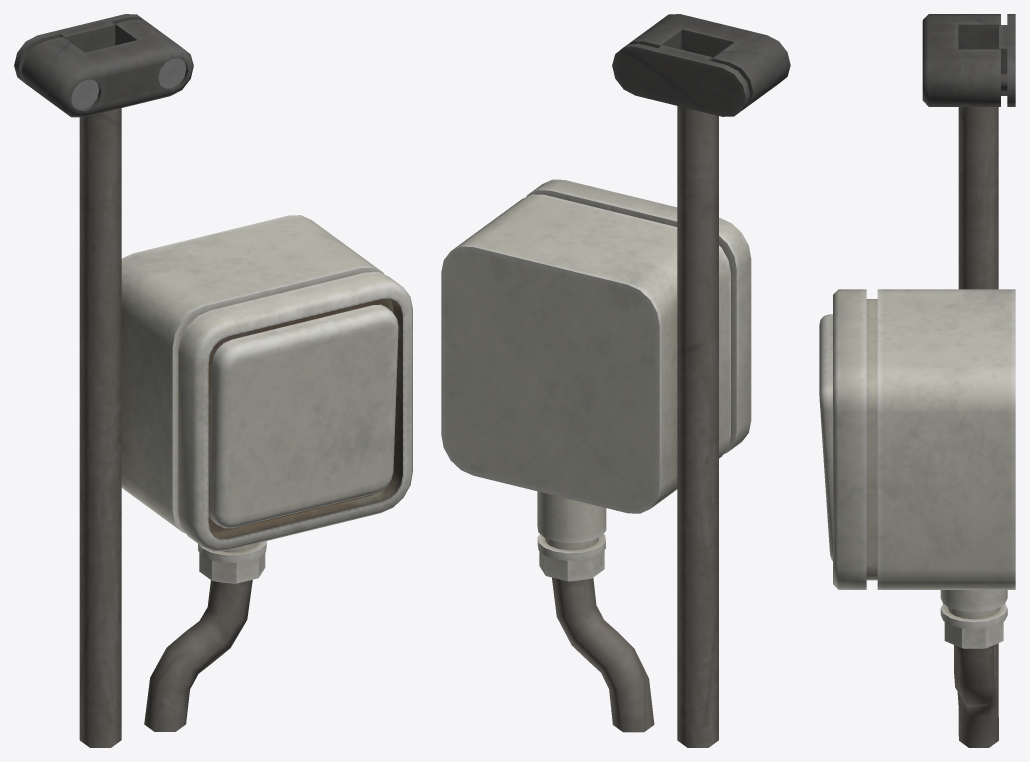
Rendered from cable_lightswitch_double.glb.
3 views of the same model, side by side, from view 1: azimuth 30°, elevation 25°; view 2: azimuth 150°, elevation 25°; view 3: azimuth 270°, elevation 25° (orthographic). The views are drawn at different scales.
Visible parts, largest first — view 1: cable_lightswitch_double.001; view 2: cable_lightswitch_double.001; view 3: cable_lightswitch_double.001.
Part boxes in pixels (x1,y1,x2,y2): cable_lightswitch_double.001: (14, 14, 412, 747); cable_lightswitch_double.001: (441, 14, 790, 747); cable_lightswitch_double.001: (819, 14, 1015, 747).
Bounding box in the file's own units: 0.0948 × 0.2073 × 0.0547.
1 material, 1 textured.
